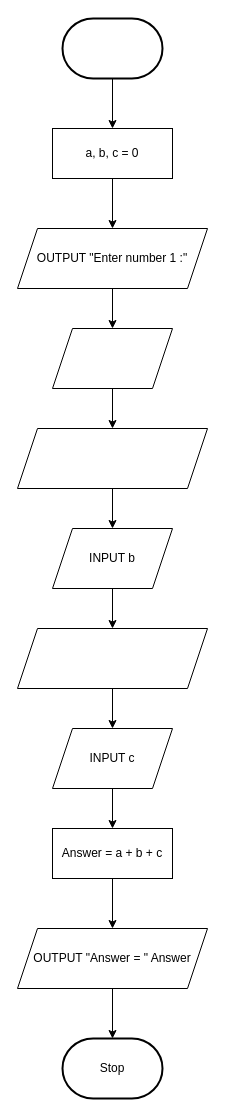
The diagram is 225 pixels wide and 1116 high, and some of its shapes have lost their labels. The box of each missing label's shape, as (x1, y1, x2, y2) in pixels:
INPUT a: (52, 328, 172, 388)
OUTPUT "Enter number 2 :": (16, 428, 208, 488)
OUTPUT "Enter number 3 :": (16, 628, 208, 688)
Start: (61, 17, 163, 79)
